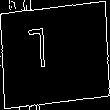L_S: (45, 28, 65, 82)
